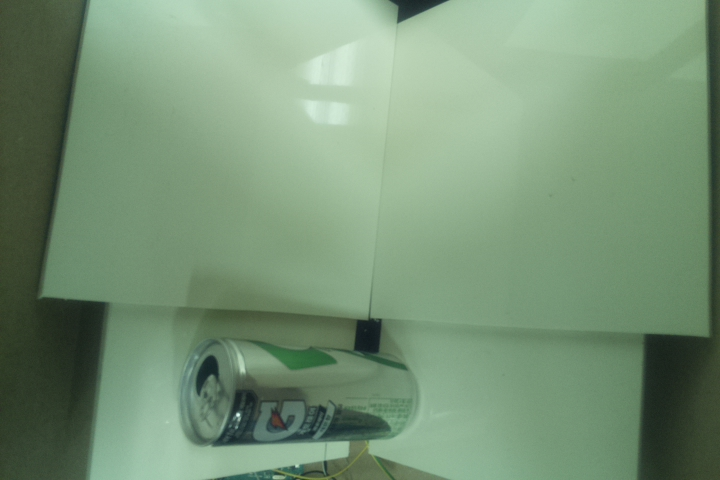can: (177, 335, 418, 453)
